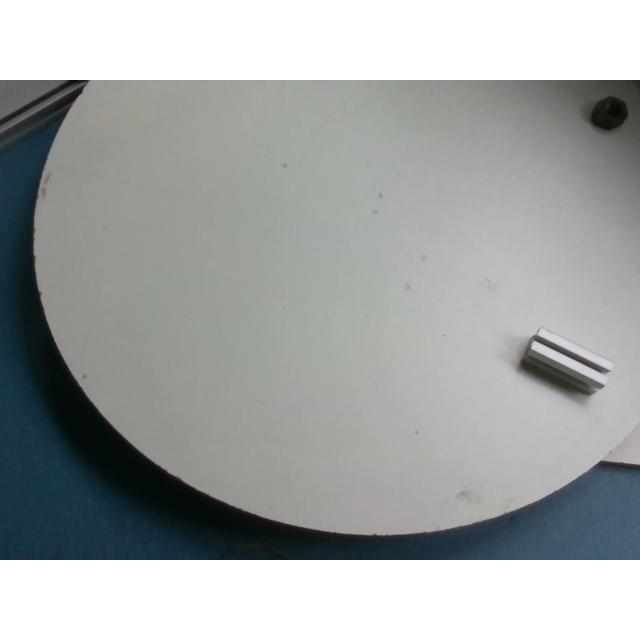M30: (590, 95, 626, 128)
S40_40_G: (518, 327, 612, 391)
